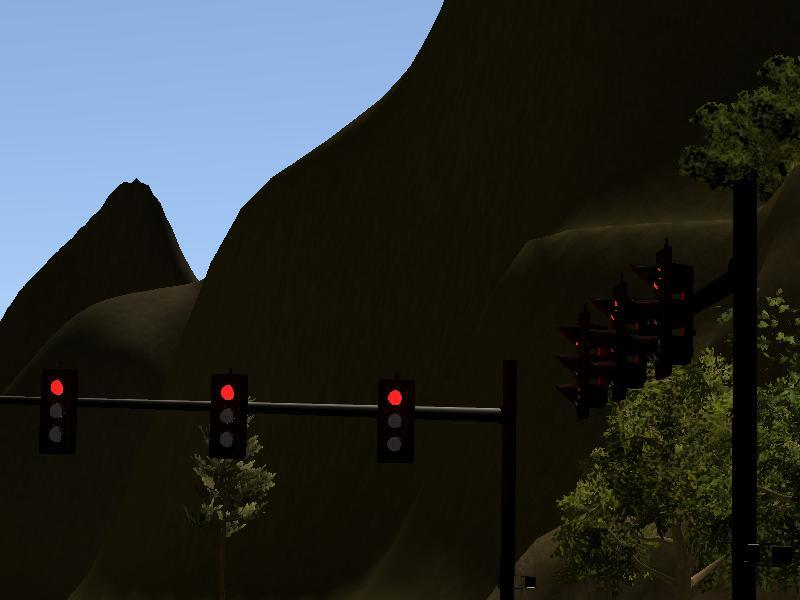Red: (377, 380, 415, 459), (213, 375, 246, 459), (44, 377, 76, 450)
